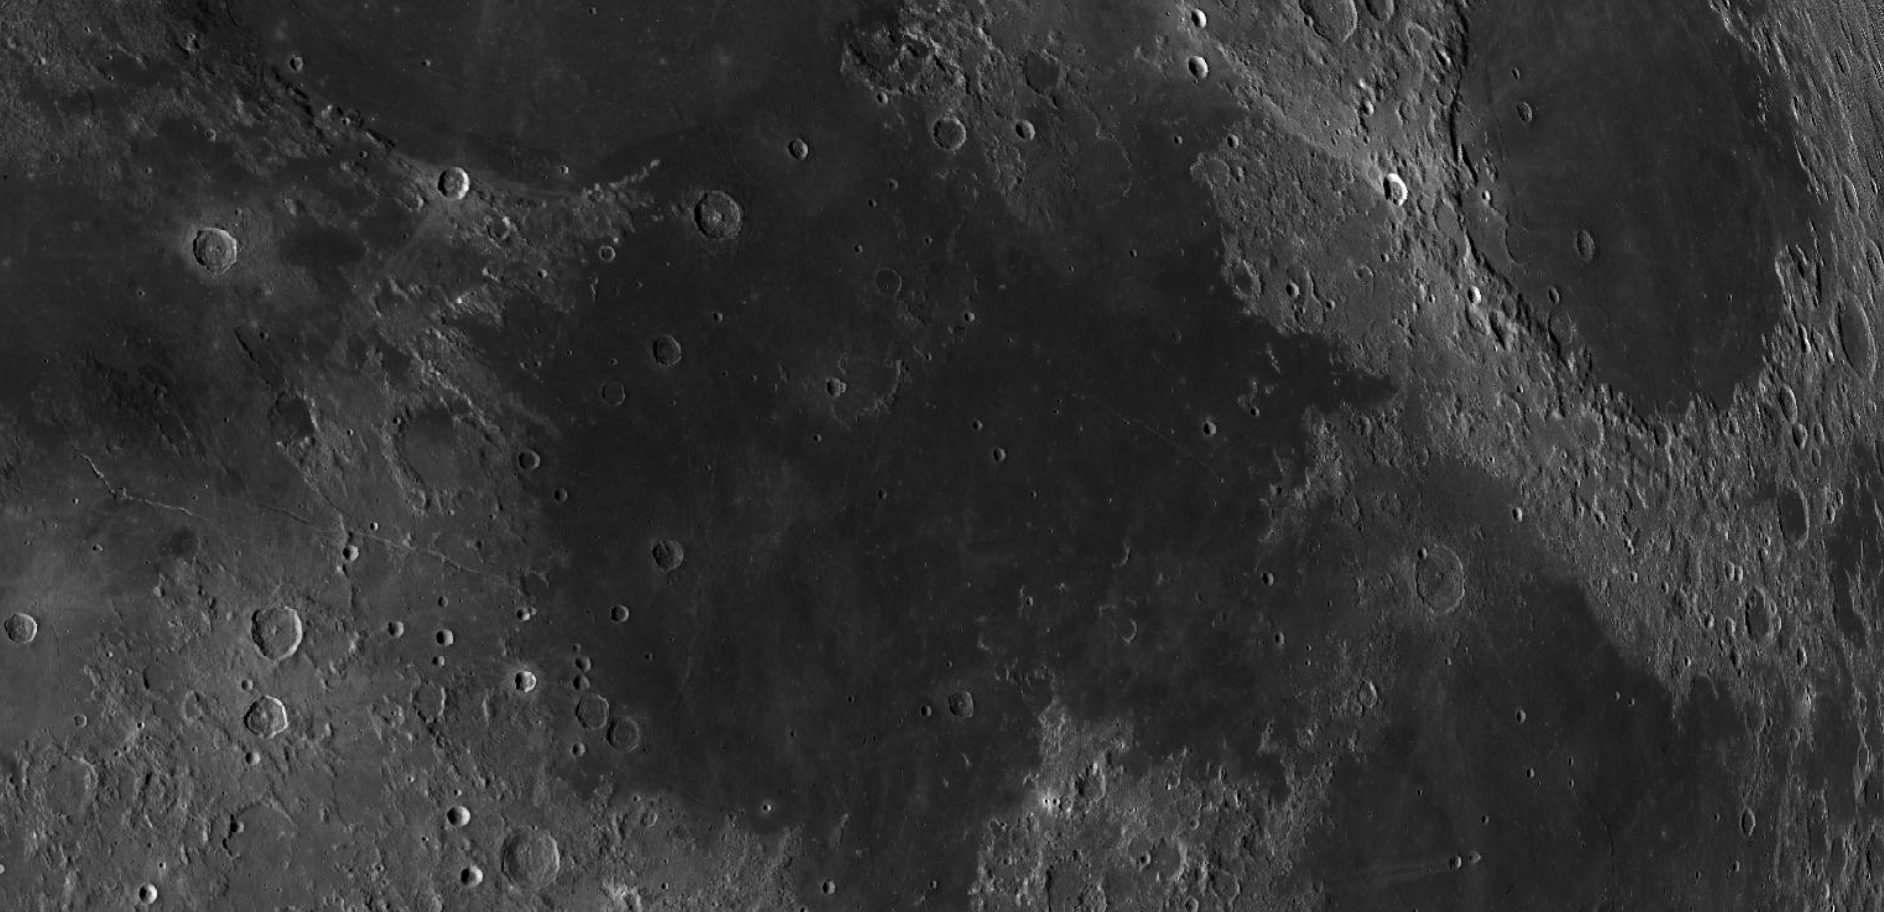crater: (372, 381, 523, 534), (1405, 535, 1486, 640), (491, 815, 588, 900), (173, 213, 266, 290), (153, 515, 254, 583), (682, 178, 768, 252), (235, 594, 317, 666), (1766, 466, 1820, 564), (1, 594, 66, 670), (914, 103, 983, 169), (634, 527, 709, 588), (225, 692, 306, 744), (1564, 220, 1627, 285), (640, 324, 698, 385), (424, 155, 479, 217), (866, 254, 913, 314), (943, 682, 991, 729), (570, 687, 614, 737), (1171, 46, 1217, 88), (276, 46, 312, 81)
